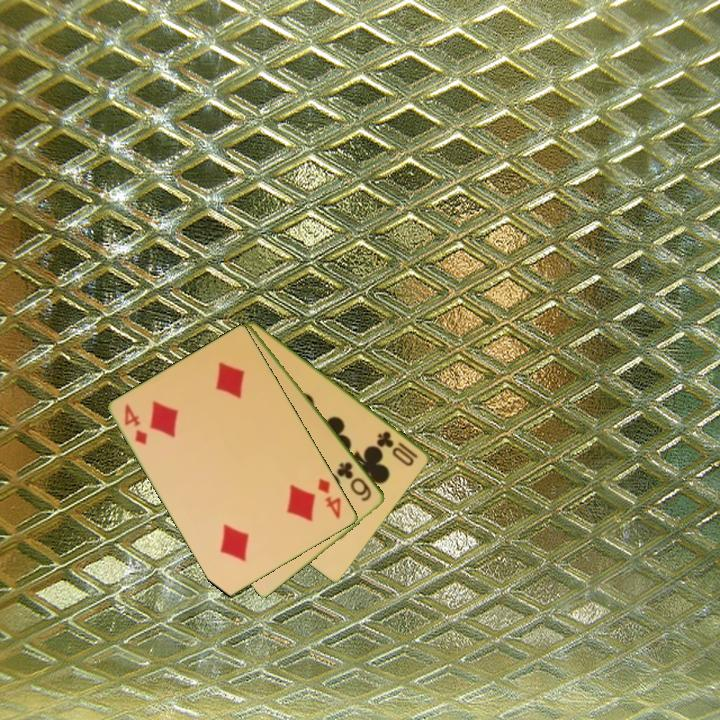10c: (373, 427, 422, 469)
4d: (314, 475, 344, 522), (121, 401, 151, 448)
6c: (334, 458, 375, 504)
